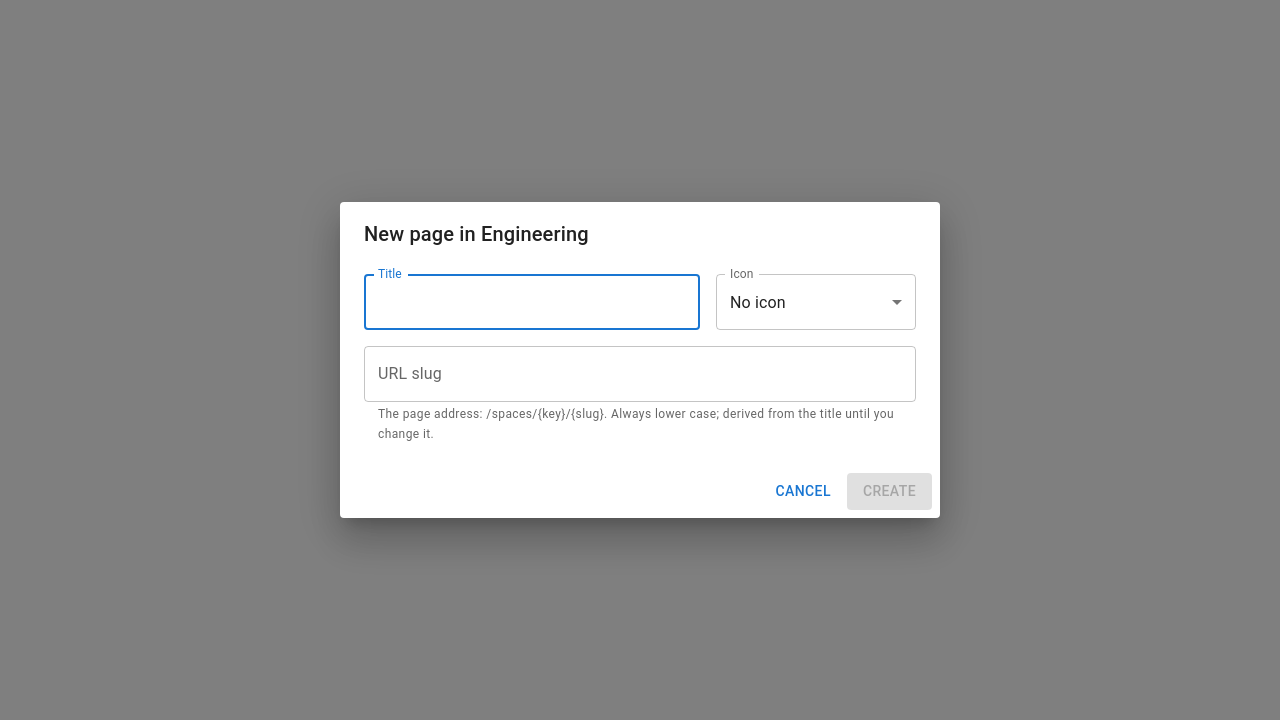
Test case: CreatePageDialog › derives the slug from the title as you type
Type "Static Fire Notes" into the field labelled "Title". click: [532, 302]
box: [364, 274, 700, 330]
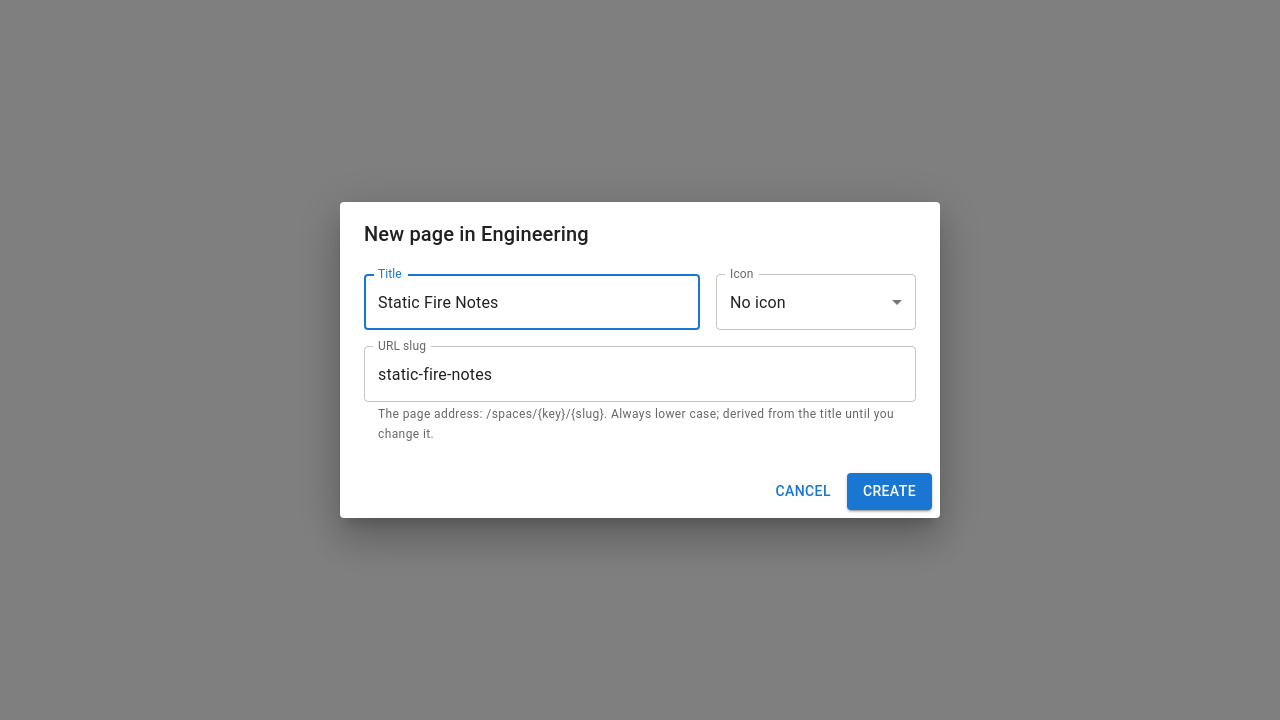
Result: the field labelled "URL slug" holds "static-fire-notes" at [364, 346, 916, 402]
